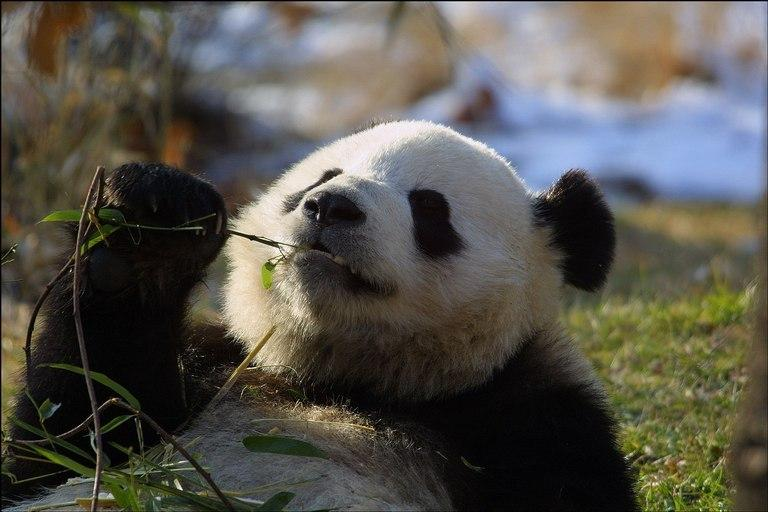panda: (0, 120, 635, 512)
